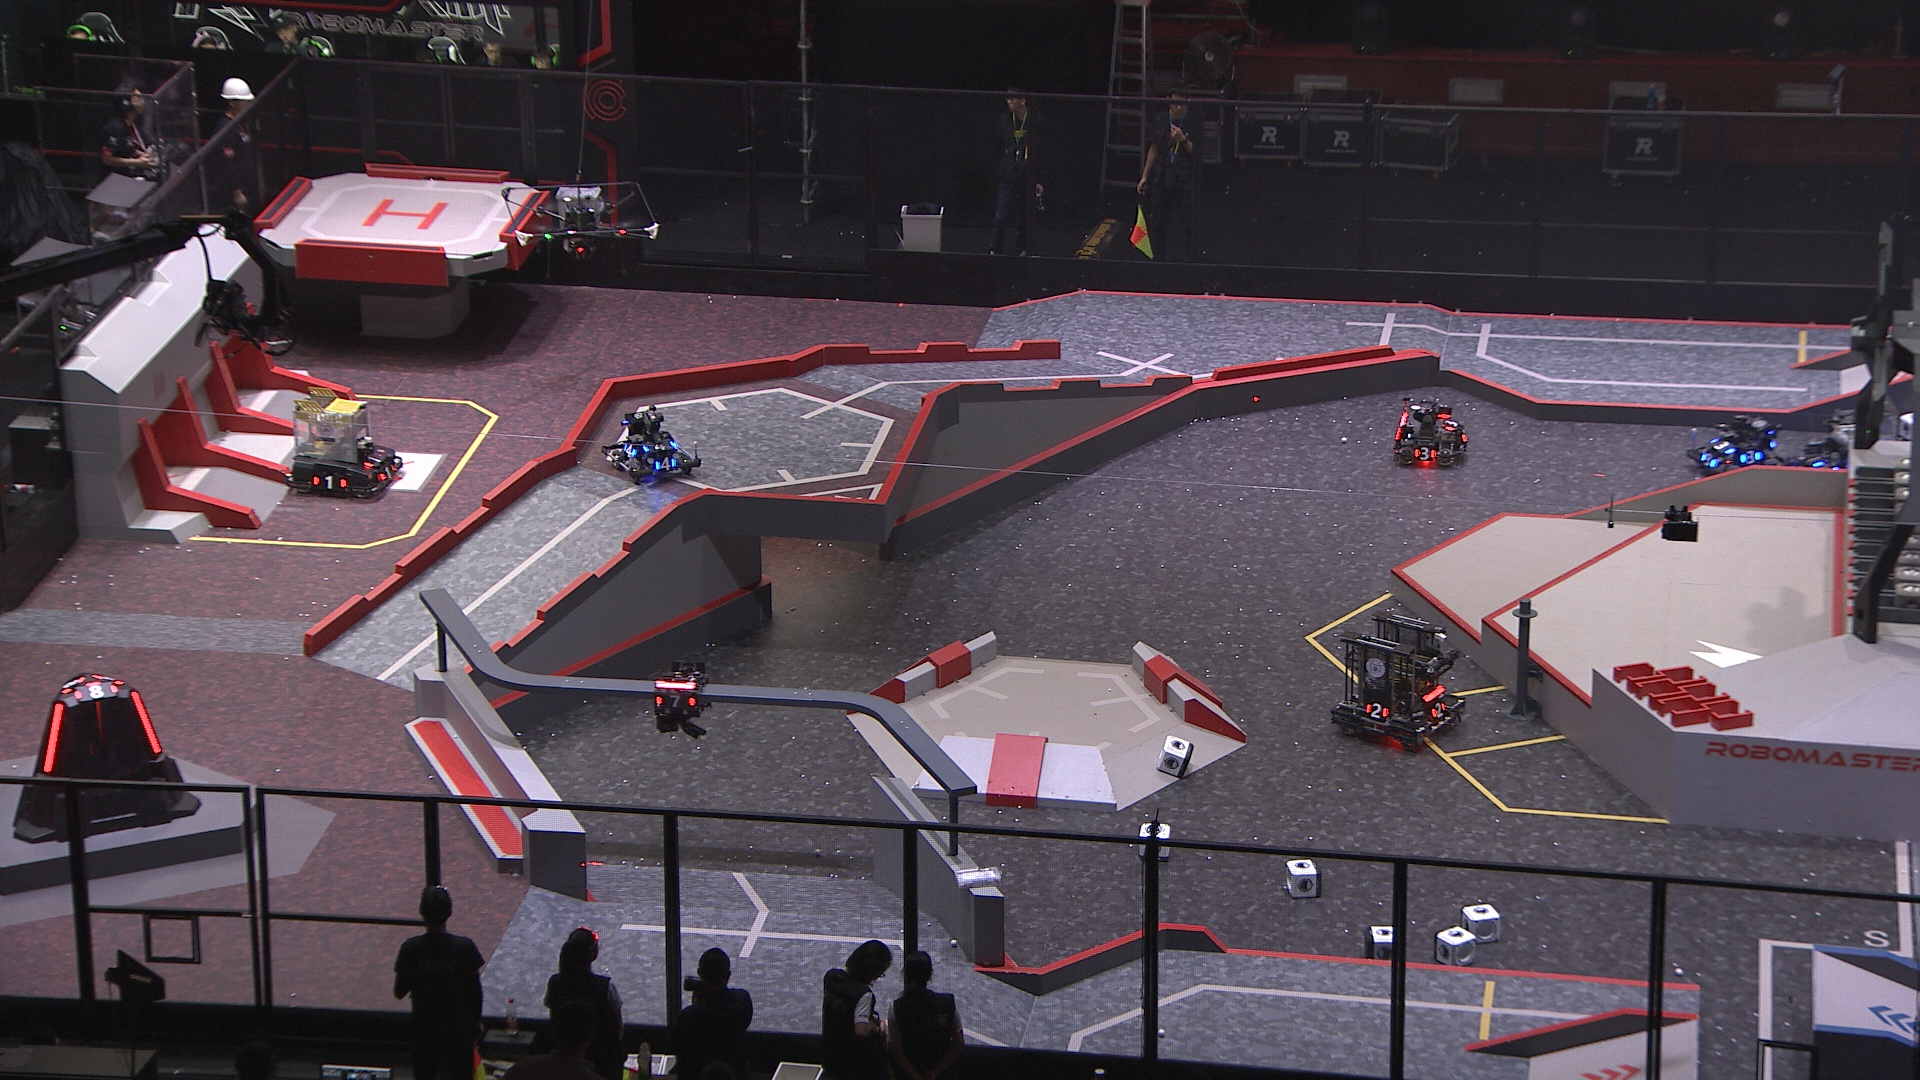armor: (129, 687, 164, 757), (40, 698, 67, 777), (73, 679, 119, 703), (654, 692, 698, 711), (309, 472, 349, 491), (373, 462, 400, 485), (1365, 702, 1391, 723), (57, 673, 83, 694), (640, 439, 680, 452), (1411, 443, 1439, 462), (651, 455, 679, 473), (1803, 450, 1828, 469), (1737, 448, 1764, 465), (365, 447, 385, 471), (1712, 436, 1735, 456), (1429, 699, 1449, 721), (1698, 448, 1718, 469), (1441, 413, 1460, 434), (92, 671, 121, 684), (621, 440, 638, 458)
base: (11, 669, 199, 847)
car: (1328, 603, 1468, 750), (289, 384, 409, 498), (1782, 392, 1902, 487), (603, 400, 708, 483), (1385, 392, 1470, 472), (1688, 409, 1783, 479)
watcher: (647, 655, 711, 742)
